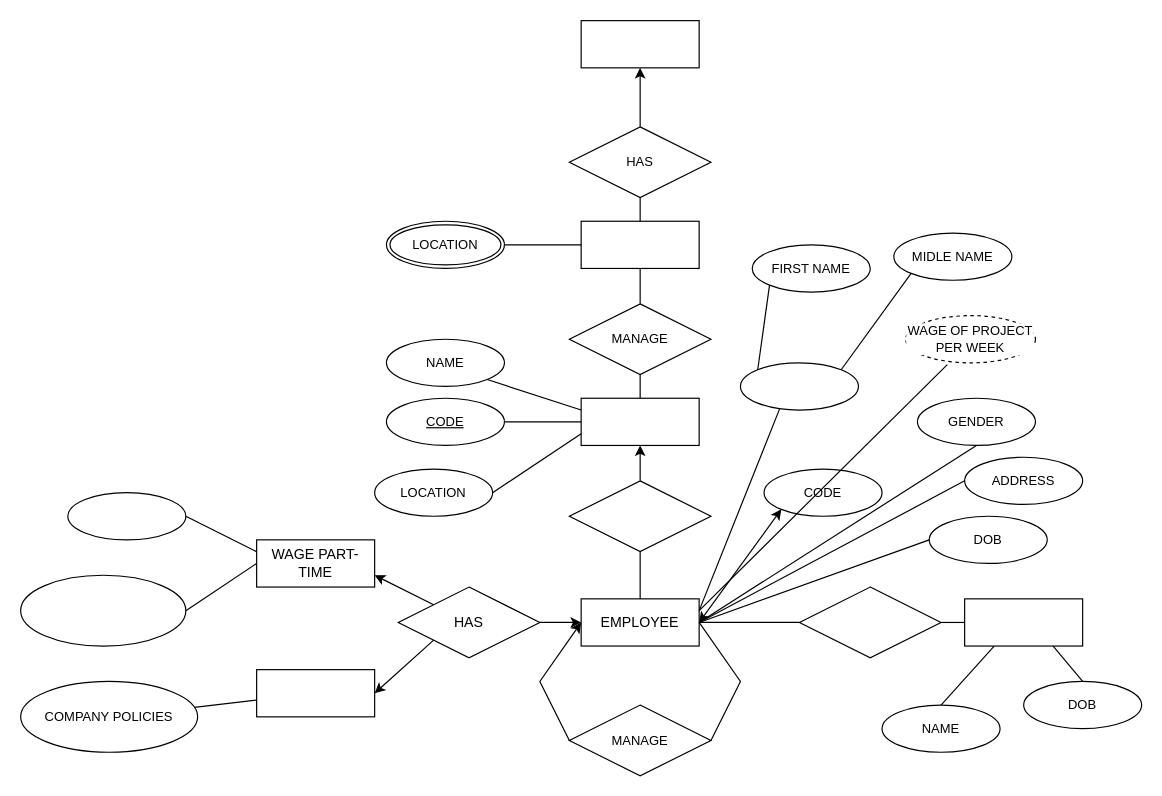
Some shapes in this 1162 by 796 pixel diagram are drawn without their labels. The box of each missing label's shape, as (x1, y1, x2, y2) in pixels:
COMPANY: (580, 19, 699, 68)
DEPARTMENT: (580, 220, 699, 268)
FULL NAME: (739, 362, 858, 410)
HOURS OF WORKING: (19, 574, 186, 646)
JOIN: (568, 480, 711, 552)
OF: (798, 586, 941, 658)
PAY RATE: (67, 491, 186, 540)
PROJECT: (580, 397, 699, 445)
RELATIVE: (963, 598, 1083, 646)
SALARY FULL TIME: (255, 668, 375, 717)
